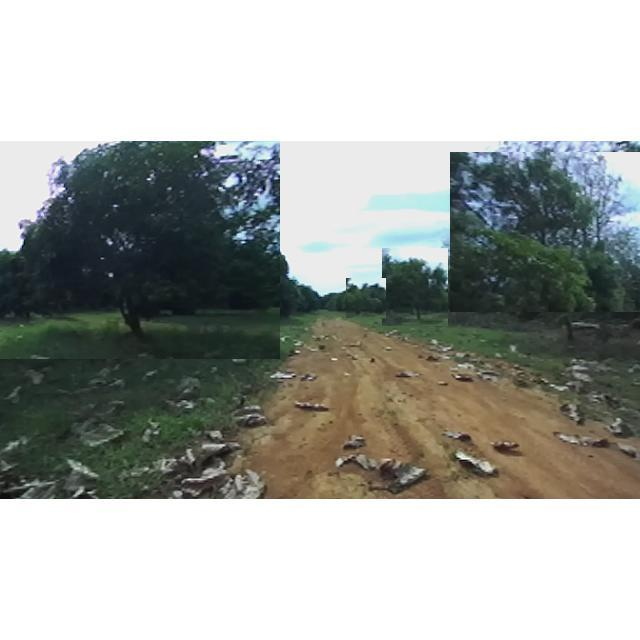direk: (0, 141, 280, 359), (476, 151, 640, 347), (450, 152, 640, 312), (216, 235, 308, 338), (382, 248, 448, 326), (346, 278, 386, 318)
